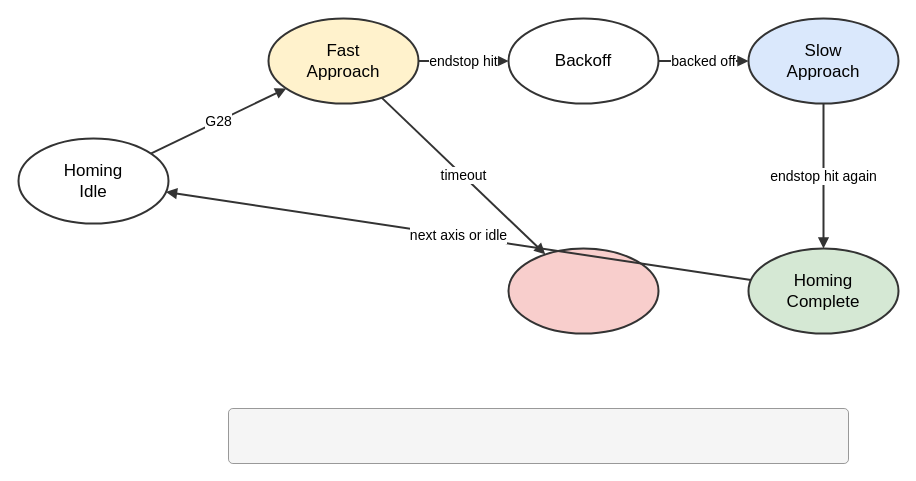
This 916x481 diagram has some shape labels left out. The shapes that lost their labels are listed below. From the top down, each one's centre as x and y in pixels, then its label:
At [583,290]: "Homing Failed".
At [538,436]: "Endstops are debounced for 10 ms before the triggered state is accepted.".
